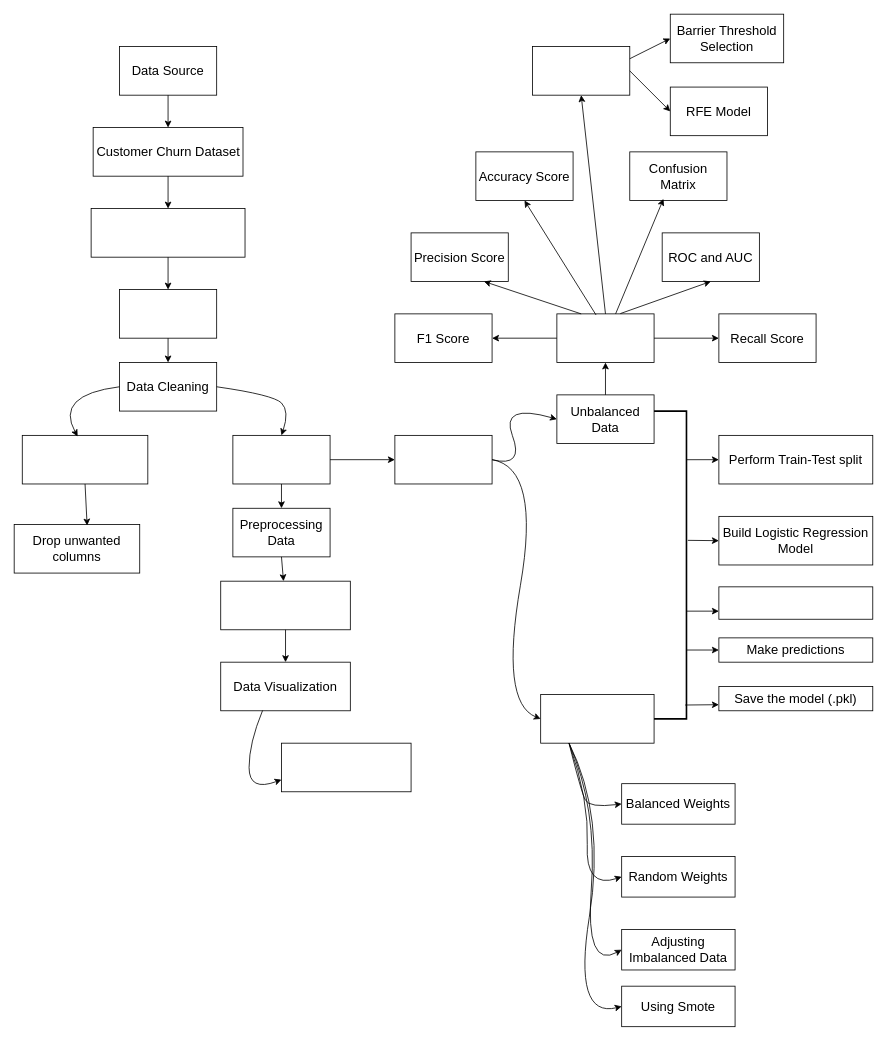
The diagram is 887 pixels wide and 1041 high, and some of its shapes have lost their labels. The shapes that lost their labels are listed below. From the top down, each one's centre as x and y in pixels, then its label:
(581,70): Feature Selection
(167,232): Import required libraries
(168,313): Read the dataset
(605,337): Model Validation
(84,459): Check for null values and handle them
(281,459): Cleaned Data
(443,459): Model Building
(285,605): Encoding Categorial Variables
(795,602): Fit and Train Model
(597,718): Handling the unbalanced Data
(346,767): Scatter Plots
